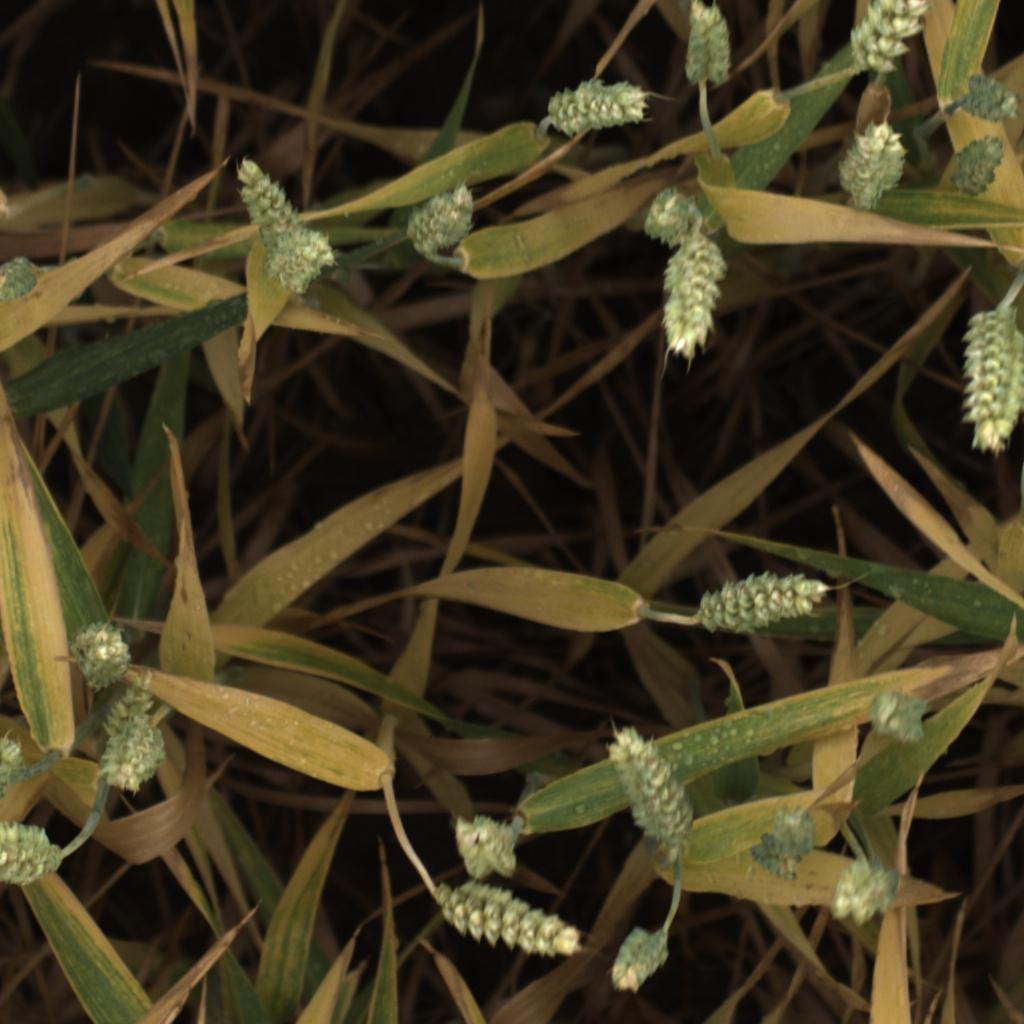0-0: (425, 870, 586, 963), (596, 723, 699, 848), (690, 561, 832, 638), (955, 301, 1024, 458), (658, 223, 728, 373), (90, 675, 167, 800), (826, 119, 922, 214), (533, 75, 658, 139), (439, 803, 525, 883), (847, 0, 933, 78), (62, 616, 142, 697), (223, 149, 301, 231), (745, 799, 819, 883), (674, 0, 737, 97), (404, 181, 478, 262), (122, 707, 185, 799), (598, 927, 677, 998), (823, 858, 902, 929), (267, 225, 344, 297), (864, 680, 938, 750), (635, 180, 703, 253), (946, 133, 1019, 197), (0, 810, 56, 884), (960, 68, 1024, 129), (0, 245, 46, 316), (0, 727, 29, 803)
